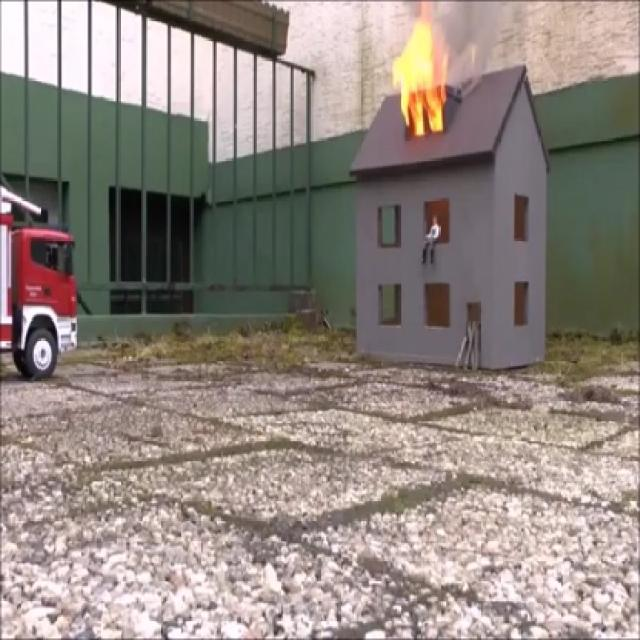Fire: (395, 5, 458, 139)
